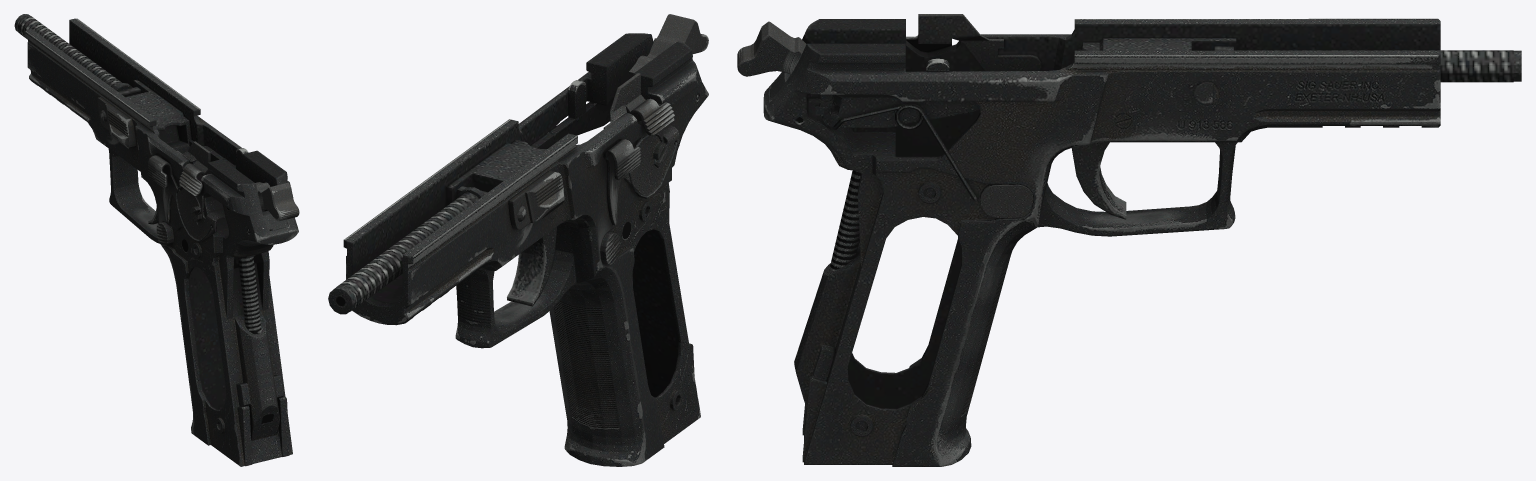
3 views of the same model, side by side, from view 1: azimuth 30°, elevation 25°; view 2: azimuth 150°, elevation 25°; view 3: azimuth 270°, elevation 25° (orthographic). The views are drawn at different scales.
Visible parts, largest first — view 1: TW_56d59856d2720bd8418b456a_PZ_Import; view 2: TW_56d59856d2720bd8418b456a_PZ_Import; view 3: TW_56d59856d2720bd8418b456a_PZ_Import.
Part boxes in pixels (x1=…): TW_56d59856d2720bd8418b456a_PZ_Import: x1=14, y1=14, x2=299, y2=466; TW_56d59856d2720bd8418b456a_PZ_Import: x1=328, y1=14, x2=708, y2=466; TW_56d59856d2720bd8418b456a_PZ_Import: x1=737, y1=14, x2=1521, y2=466.
Bounding box in the file's own units: 0.0184 × 0.1169 × 0.0689.
1 material, 1 textured.
